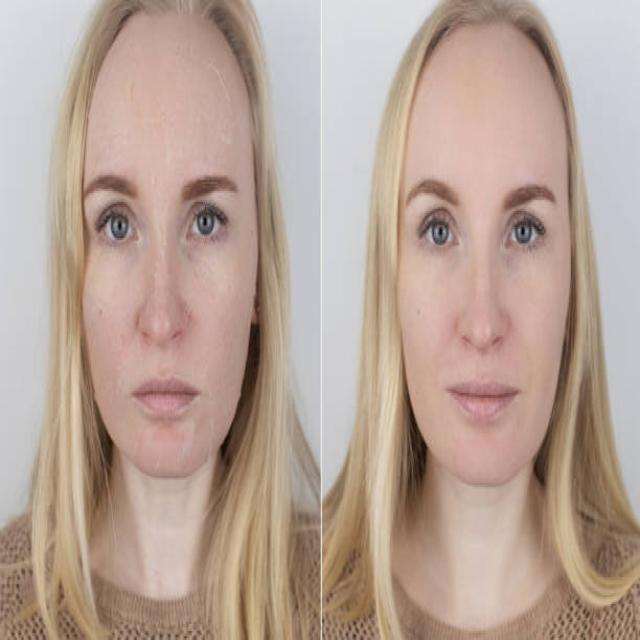Dry-Skin: (104, 39, 233, 174), (190, 259, 254, 449), (90, 259, 138, 410)
